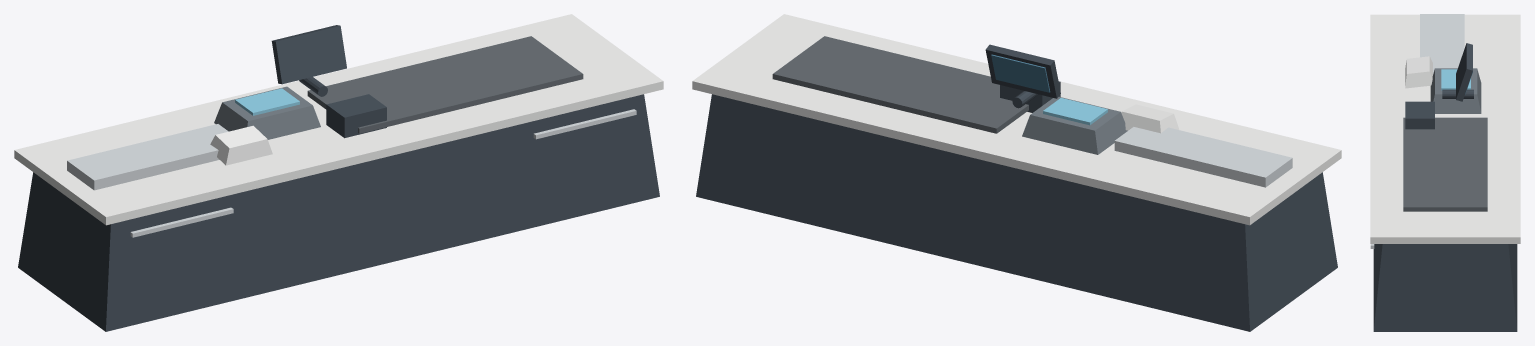
File: checkout.glb
3 views of the same model, side by side, from view 1: azimuth 30°, elevation 25°; view 2: azimuth 150°, elevation 25°; view 3: azimuth 270°, elevation 25° (orthographic). The views are drawn at different scales.
Parts seen in each view (by area): view 1: CounterBase, CounterTop, Conveyor, BaggingTray, Screen, Scanner, Printer, CardTerminal, ScannerGlass, Chrome-1.8, Chrome1.8; view 2: CounterBase, CounterTop, Conveyor, BaggingTray, Scanner, Screen, ScreenFace, CardTerminal, ScannerGlass, Printer; view 3: CounterTop, CounterBase, Conveyor, BaggingTray, Scanner, Printer, CardTerminal, Screen, ScannerGlass, ScreenStand.
Part boxes in pixels (<box>): CounterBase: <box>18,94,659,331</box>; CounterTop: <box>14,14,663,225</box>; Conveyor: <box>307,36,583,133</box>; BaggingTray: <box>67,124,228,190</box>; Screen: <box>271,25,346,84</box>; Scanner: <box>214,86,320,139</box>; Printer: <box>326,94,386,138</box>; CardTerminal: <box>210,125,272,165</box>; ScannerGlass: <box>235,88,299,115</box>; Chrome-1.8: <box>130,207,233,237</box>; Chrome1.8: <box>533,109,636,139</box>; CounterBase: <box>696,94,1337,331</box>; CounterTop: <box>692,14,1341,225</box>; Conveyor: <box>772,36,1028,133</box>; BaggingTray: <box>1114,127,1292,187</box>; Scanner: <box>1022,96,1127,154</box>; Screen: <box>985,44,1060,98</box>; ScreenFace: <box>991,54,1050,92</box>; CardTerminal: <box>1121,104,1179,133</box>; ScannerGlass: <box>1043,98,1107,125</box>; Printer: <box>1000,81,1060,112</box>; CounterTop: <box>1370,14,1520,243</box>; CounterBase: <box>1373,244,1517,331</box>; Conveyor: <box>1403,117,1487,211</box>; BaggingTray: <box>1420,14,1464,73</box>; Scanner: <box>1430,68,1481,113</box>; Printer: <box>1405,101,1434,129</box>; CardTerminal: <box>1405,56,1432,88</box>; Screen: <box>1456,43,1472,101</box>; ScannerGlass: <box>1441,69,1470,90</box>; ScreenStand: <box>1442,89,1473,98</box>.
Bounding box in the file's own units: 4.98 × 1.65 × 1.42.
